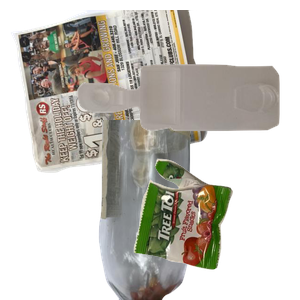glass: (96, 120, 283, 300)
paper: (10, 10, 210, 175)
plastic: (75, 62, 300, 186)
trash: (131, 156, 300, 300)
